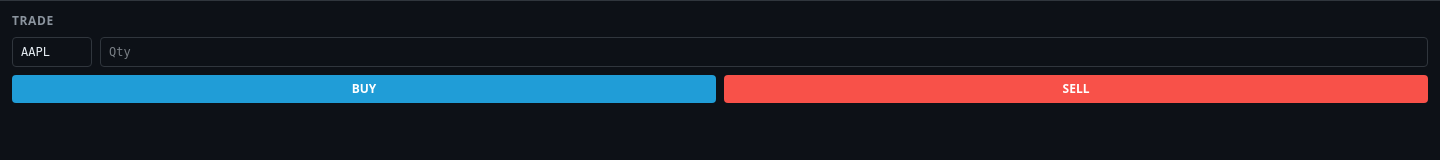
Test: shows validation message when no quantity
Click the button "BUY". click: [364, 89]
box: [12, 75, 716, 103]
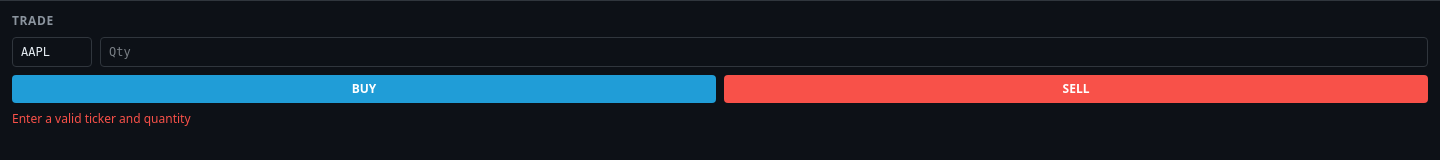
Check: the text "Enter a valid ticker and quantity" is shown, box [12, 110, 191, 127]
